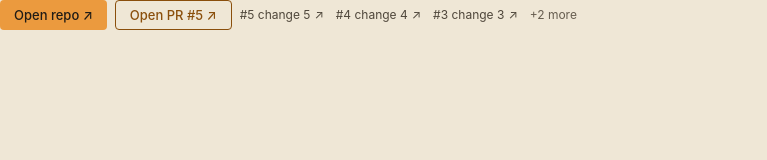
Test: RepoLinks › shows three PRs and the rest behind +N more
Expected: the text "#1 change 1" is not shown
Click the button "+2 more" at (553, 15), box [530,6,577,24]
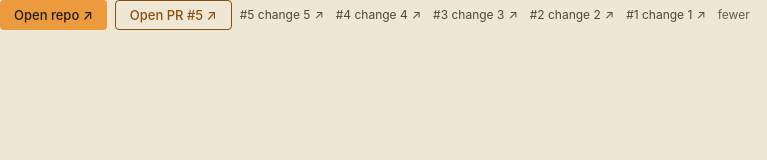
Result: the text "#1 change 1" is shown at [626,6,692,24]
